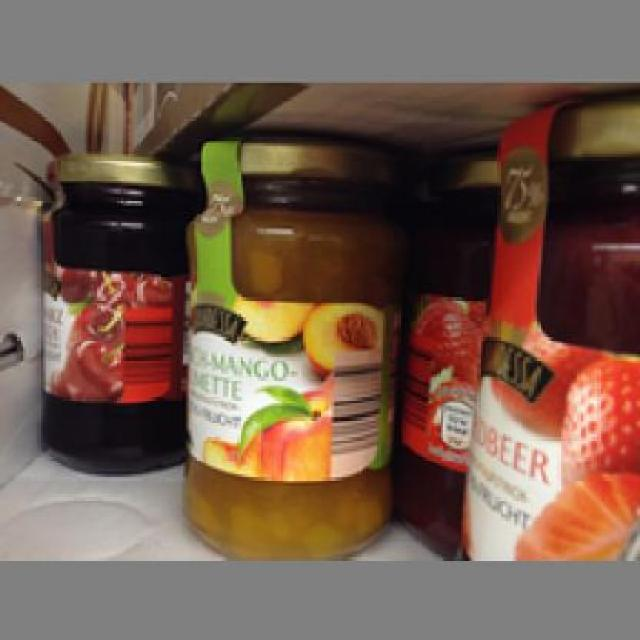Jam: (180, 137, 406, 554), (454, 100, 634, 560), (36, 152, 192, 474)
